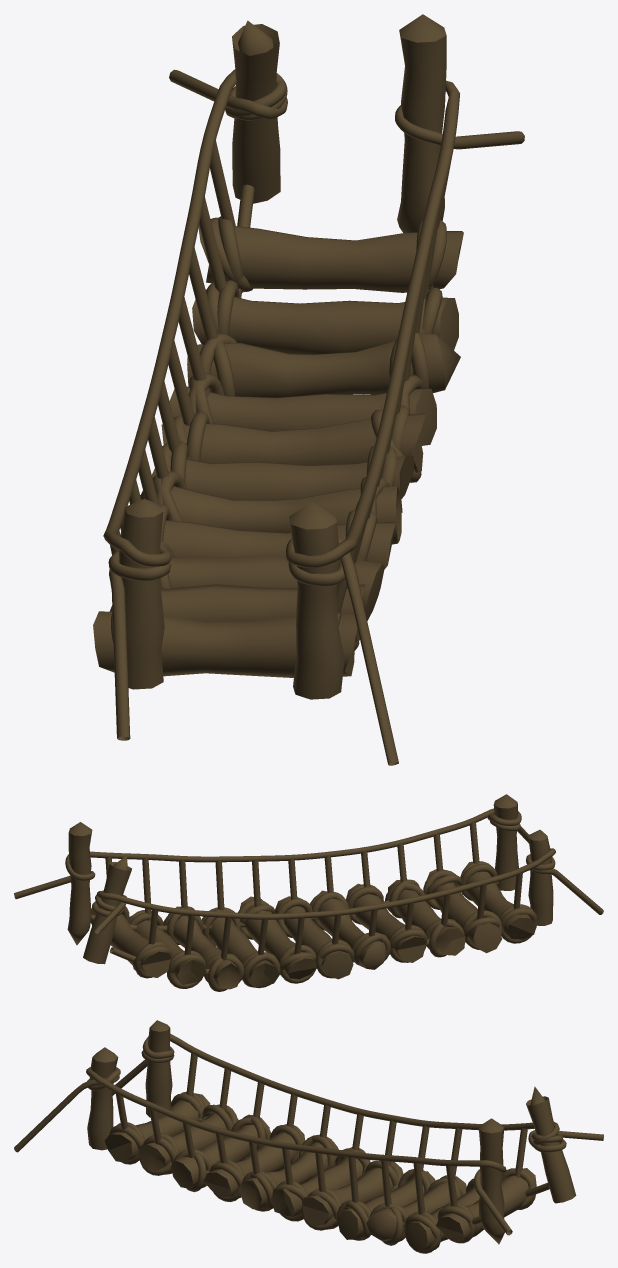
File: Rope Bridge.fbx
3 views of the same model, one above another, from view 1: azimuth 30°, elevation 25°; view 2: azimuth 150°, elevation 25°; view 3: azimuth 270°, elevation 25° (orthographic). The views are drawn at different scales.
Visible parts, largest first — view 1: bridge_logs_geo, bridge_ropes_geo, bridge_posts_geo; view 2: bridge_ropes_geo, bridge_logs_geo, bridge_posts_geo; view 3: bridge_ropes_geo, bridge_logs_geo, bridge_posts_geo.
Boxes of the visible parts, x1,y1,x2,y2 form: bridge_logs_geo: (93, 225, 463, 677); bridge_ropes_geo: (103, 69, 524, 765); bridge_posts_geo: (119, 14, 446, 699); bridge_ropes_geo: (14, 808, 603, 991); bridge_logs_geo: (90, 861, 536, 989); bridge_posts_geo: (67, 794, 553, 964); bridge_ropes_geo: (14, 1034, 603, 1253); bridge_logs_geo: (104, 1093, 536, 1251); bridge_posts_geo: (87, 1020, 576, 1244).
Bounding box in the file's own units: 15.2 × 5.83 × 18.79.
